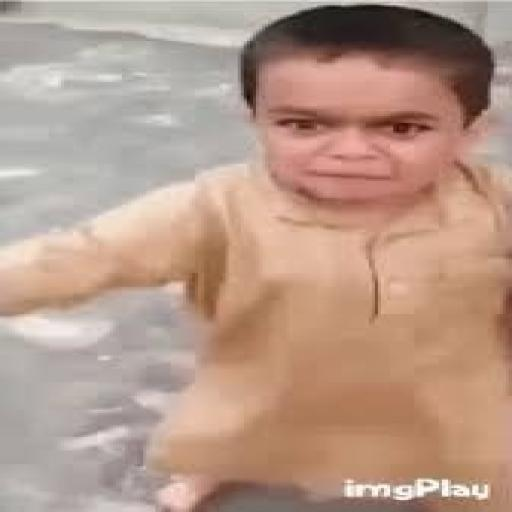dancing: (0, 2, 509, 510)
